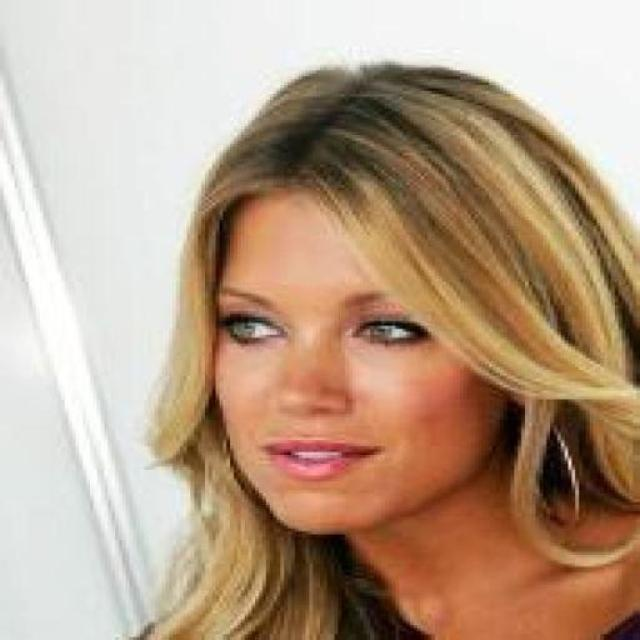bareface: (190, 132, 510, 520)
